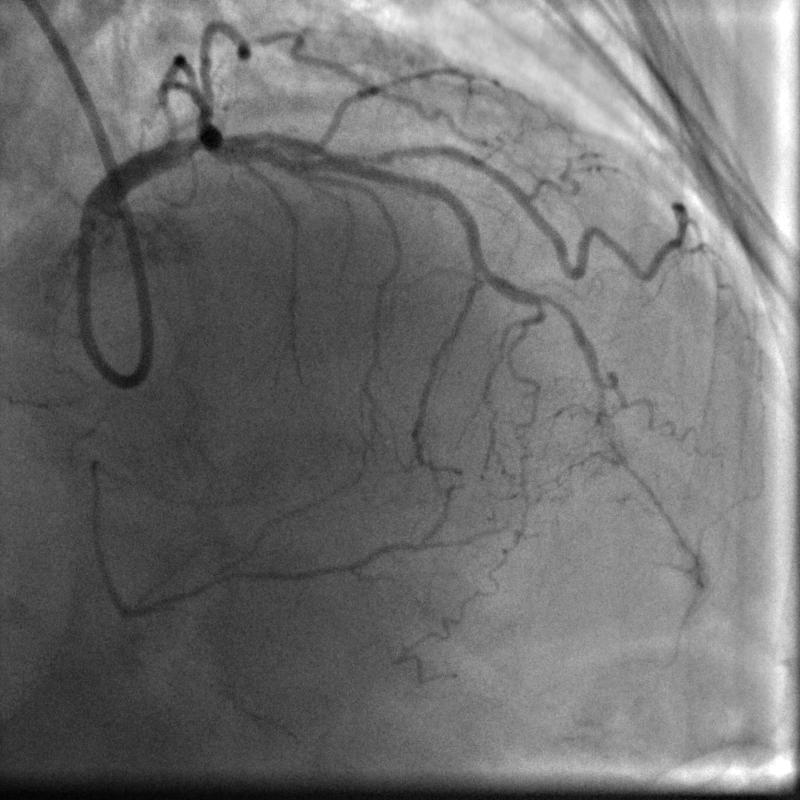Stenosis: (176, 122, 215, 164)
